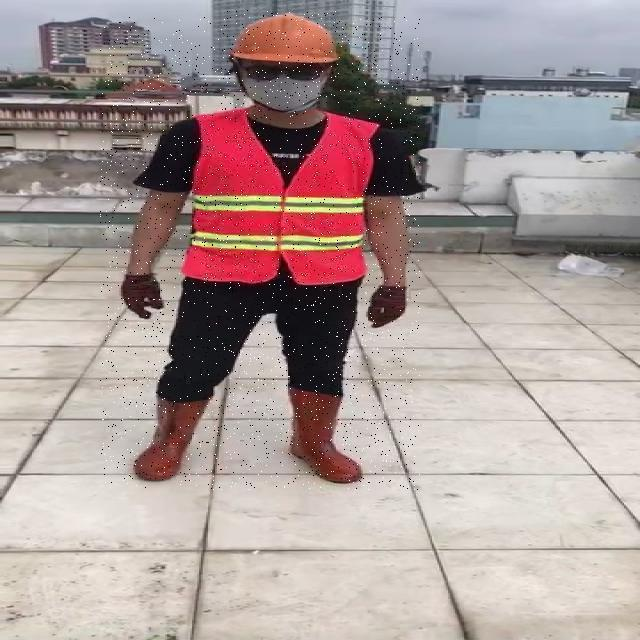gloves: (119, 267, 164, 320), (366, 284, 409, 330)
goggles: (244, 62, 324, 82)
helmet: (225, 10, 341, 68)
safety_vest: (181, 111, 375, 284)
